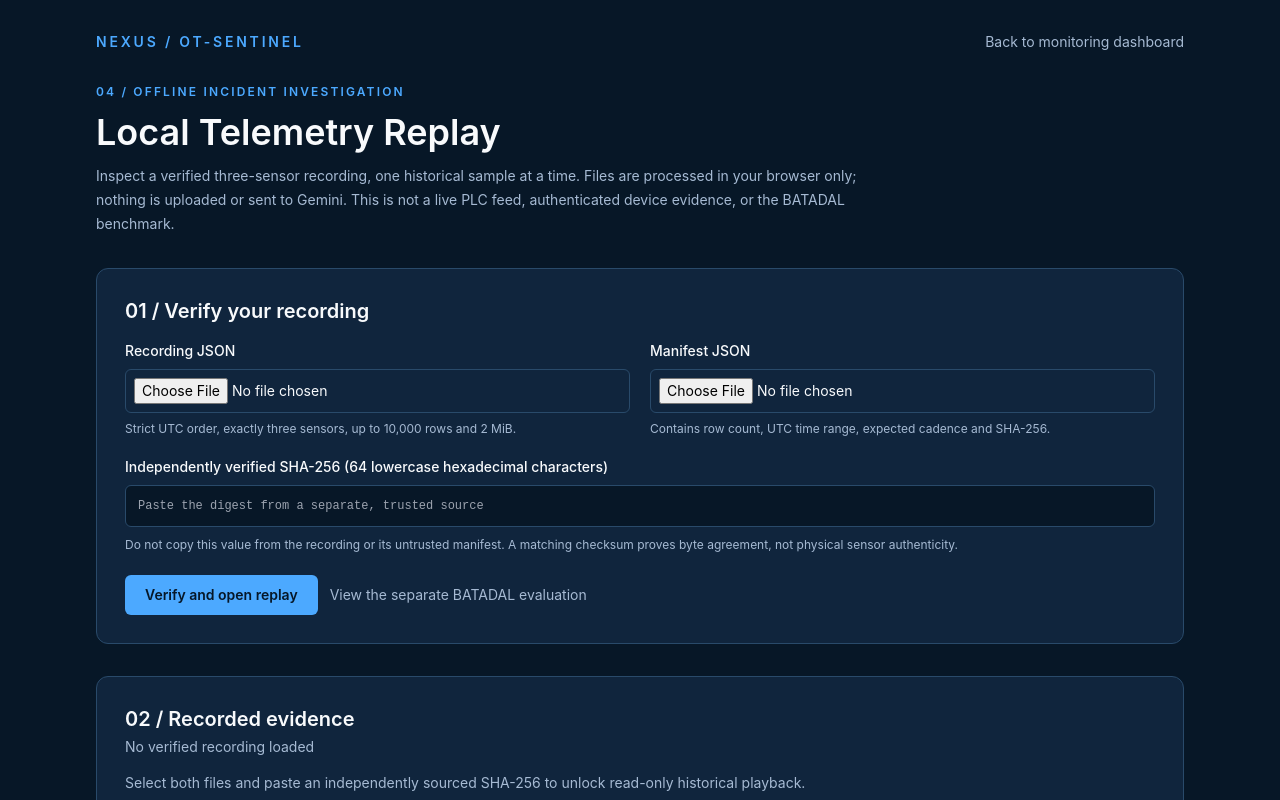
Test case: OfflineReplayWorkbench › rejects a missing local file without claiming verification
Click the button "Verify and open replay".
click(221, 595)  # box [125,575,318,615]
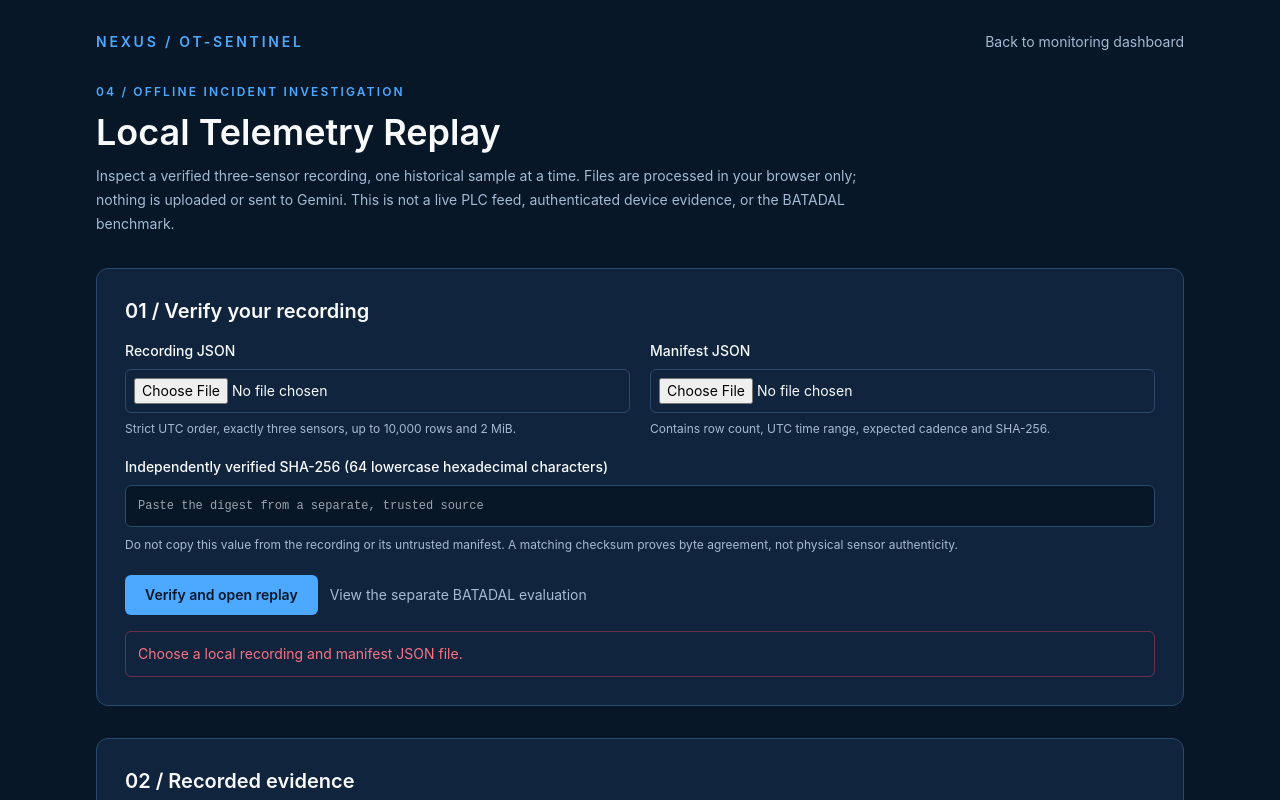
Expected: the message shows "Choose a local recording and manifest", [138,645,463,662]
